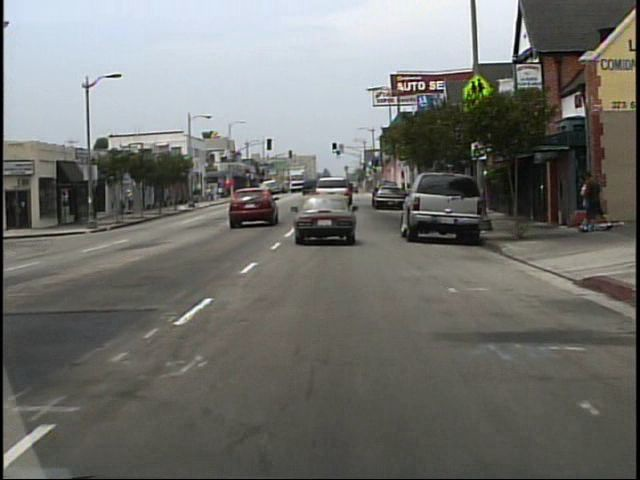person: (584, 165, 610, 232), (578, 173, 599, 231), (127, 186, 138, 214)
